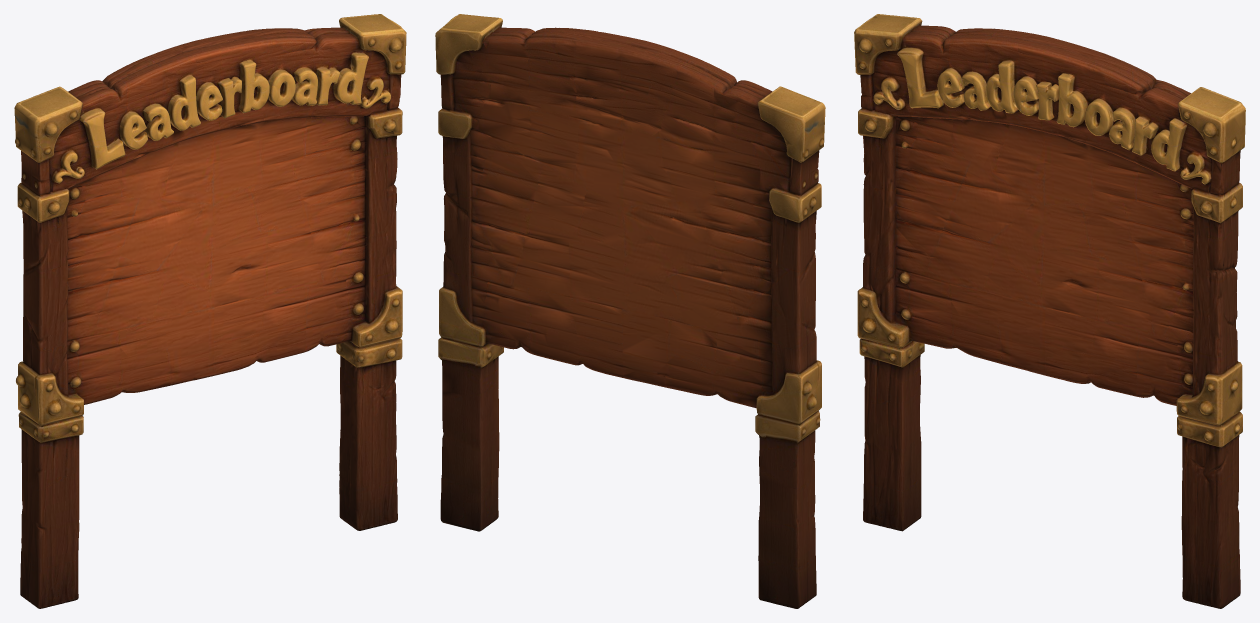
Rendered from leaderboard.glb.
3 views of the same model, side by side, from view 1: azimuth 30°, elevation 25°; view 2: azimuth 150°, elevation 25°; view 3: azimuth 330°, elevation 25° (orthographic).
Visible parts, largest first — view 1: mesh_node; view 2: mesh_node; view 3: mesh_node.
Part boxes in pixels (box(x1,y1,x2,y2)): mesh_node: box(14, 14, 406, 608); mesh_node: box(435, 14, 825, 608); mesh_node: box(854, 14, 1245, 608).
Size of the model in its own units: 1.44 by 1.9 by 0.1758.
1 material, 1 textured.
